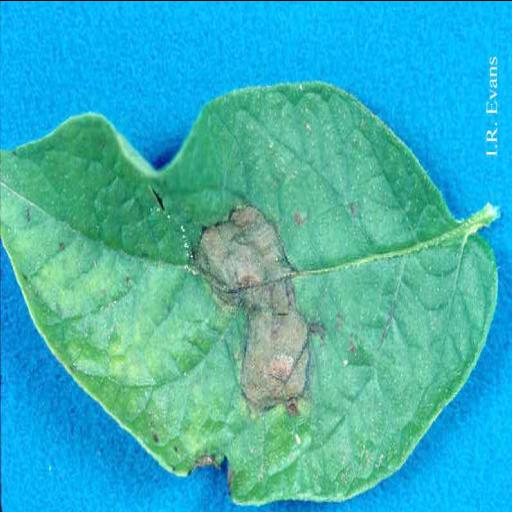Late Blight: (1, 76, 499, 508)
